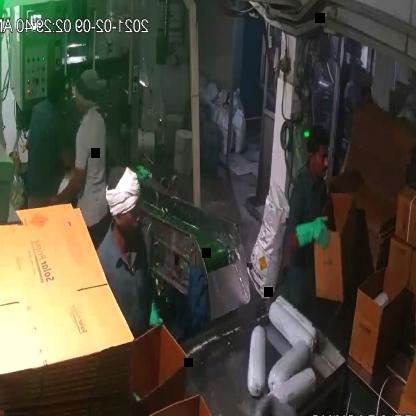glove: (291, 213, 331, 251)
no_glove: (40, 158, 92, 213)
